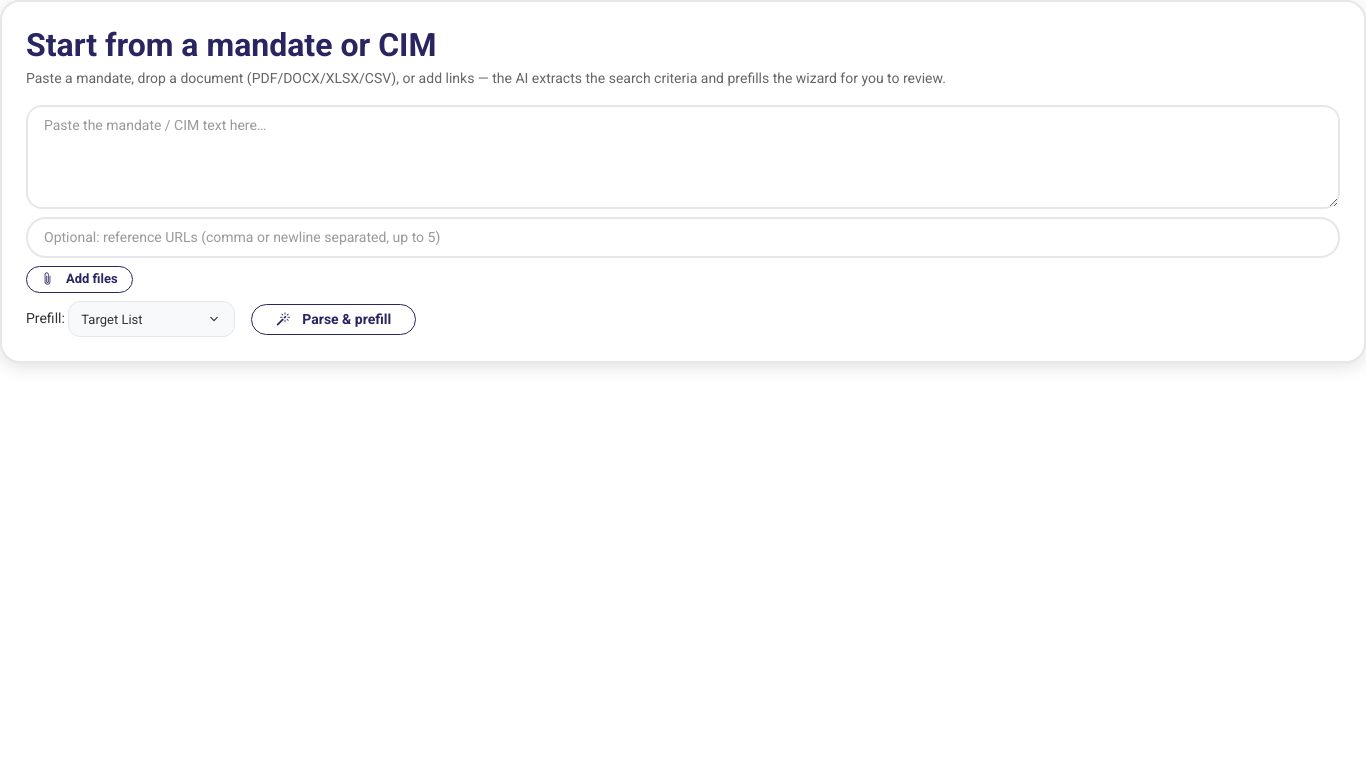
Test: MandateComposer › parses pasted text, stores the prefill, and navigates to the Target wizard
The width and height of the screenshot is (1366, 768).
Type "Acquire HVAC services firms, $5-15M revenue." into the text box named "Mandate text".
click(683, 157); type("Acquire HVAC services firms, $5-15M revenue.")  # box top-left (26, 105), bottom-right (1340, 209)
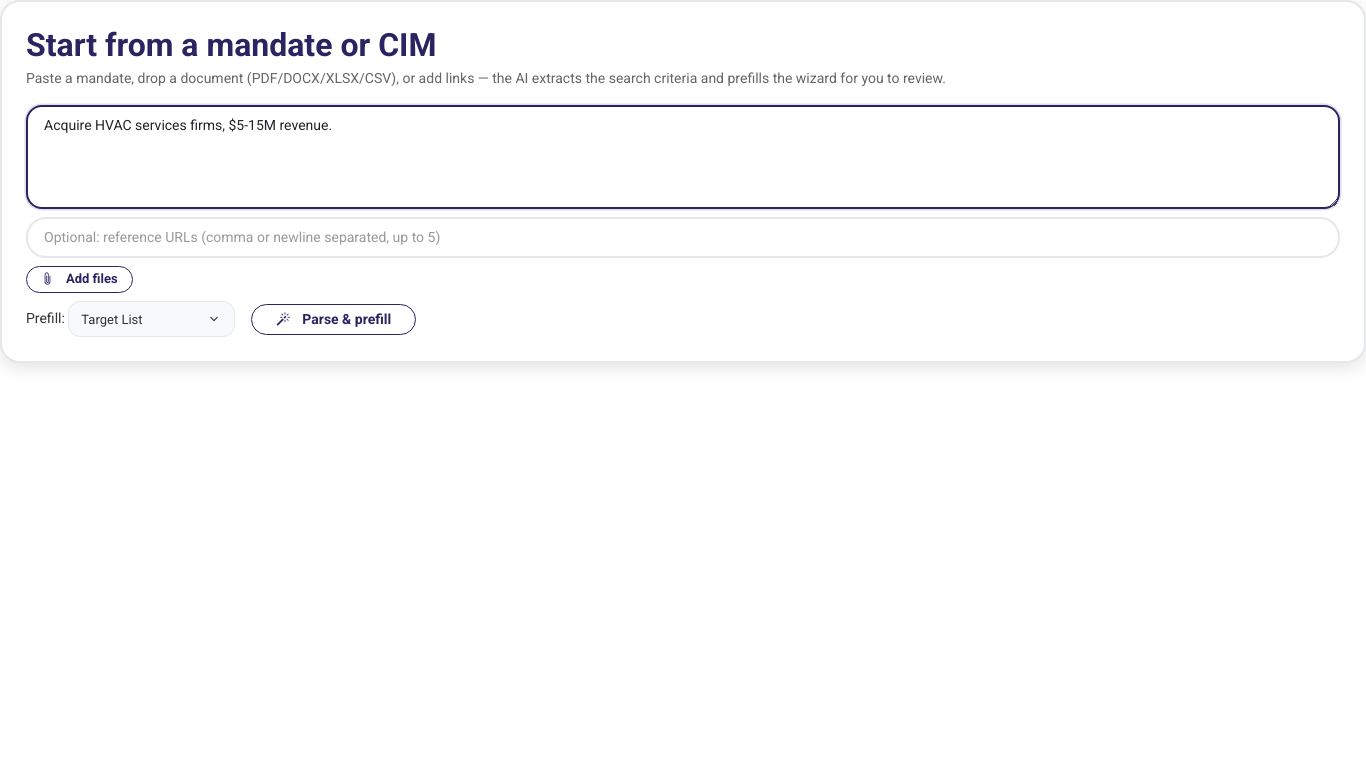
Click the button "Parse & prefill".
click(334, 319)  # box top-left (251, 304), bottom-right (416, 335)
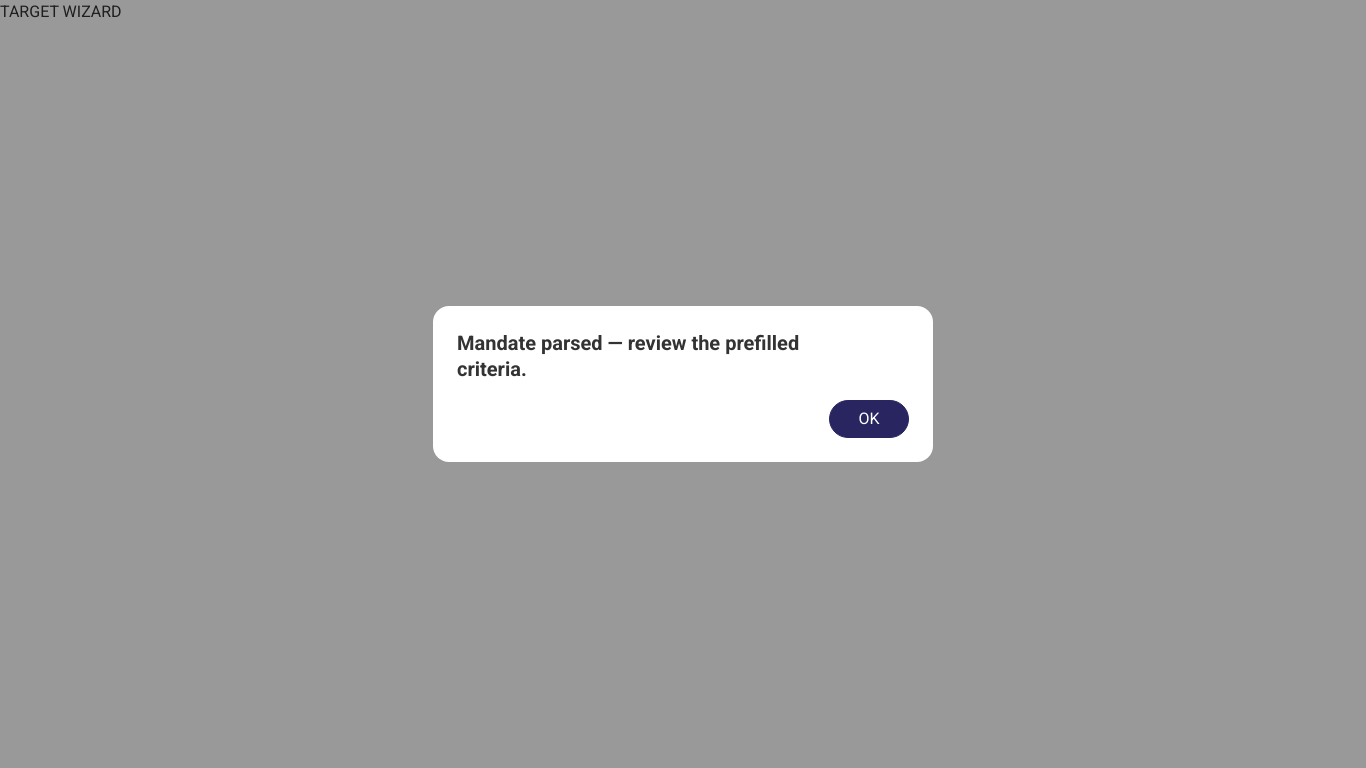
Check: the text "TARGET WIZARD" is shown, box top-left (0, 2), bottom-right (122, 21)
